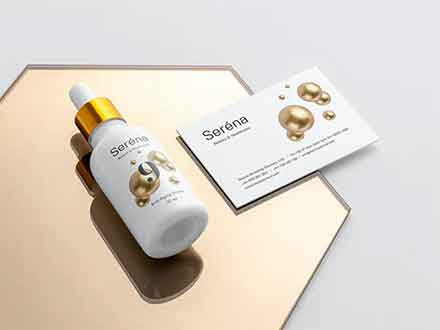Medicine: (61, 78, 208, 277)
